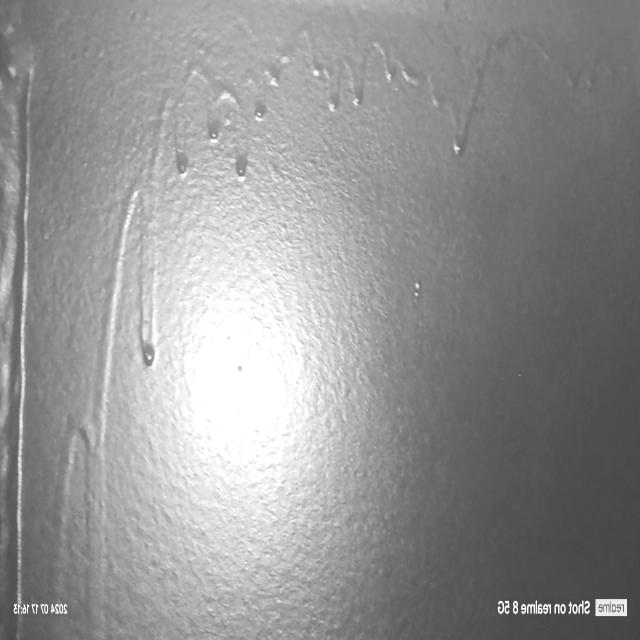paint drips: (168, 24, 627, 180), (45, 83, 167, 640)
